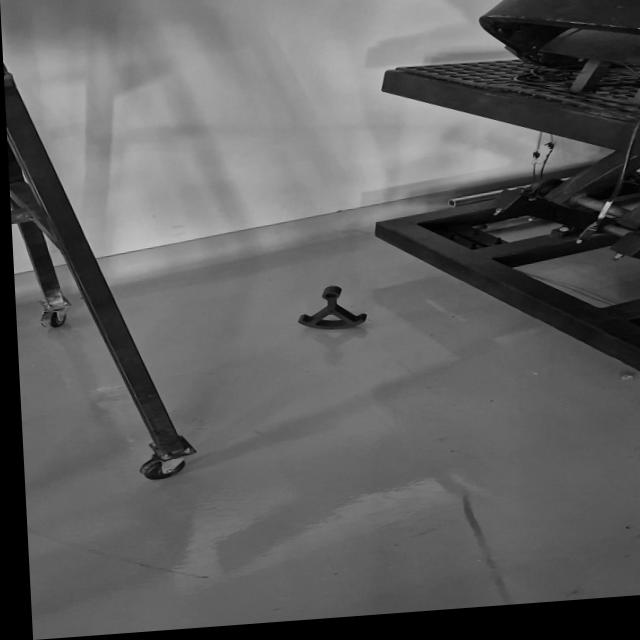haptic: (295, 283, 369, 332)
